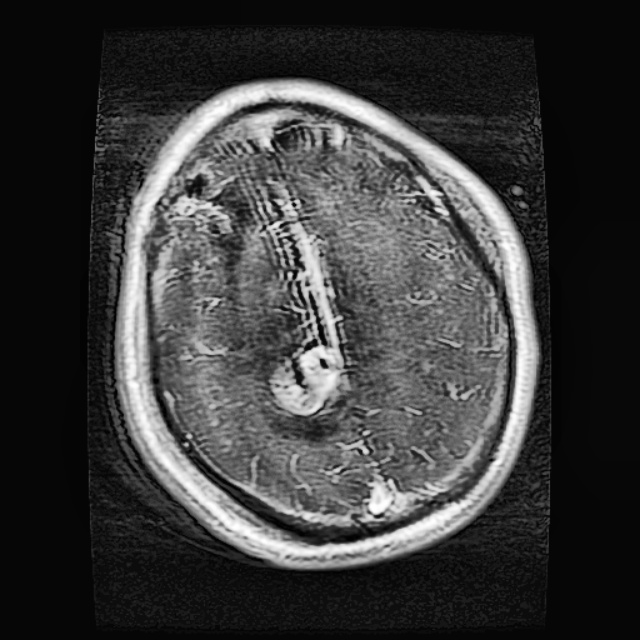Pituitary: (267, 340, 342, 415)
